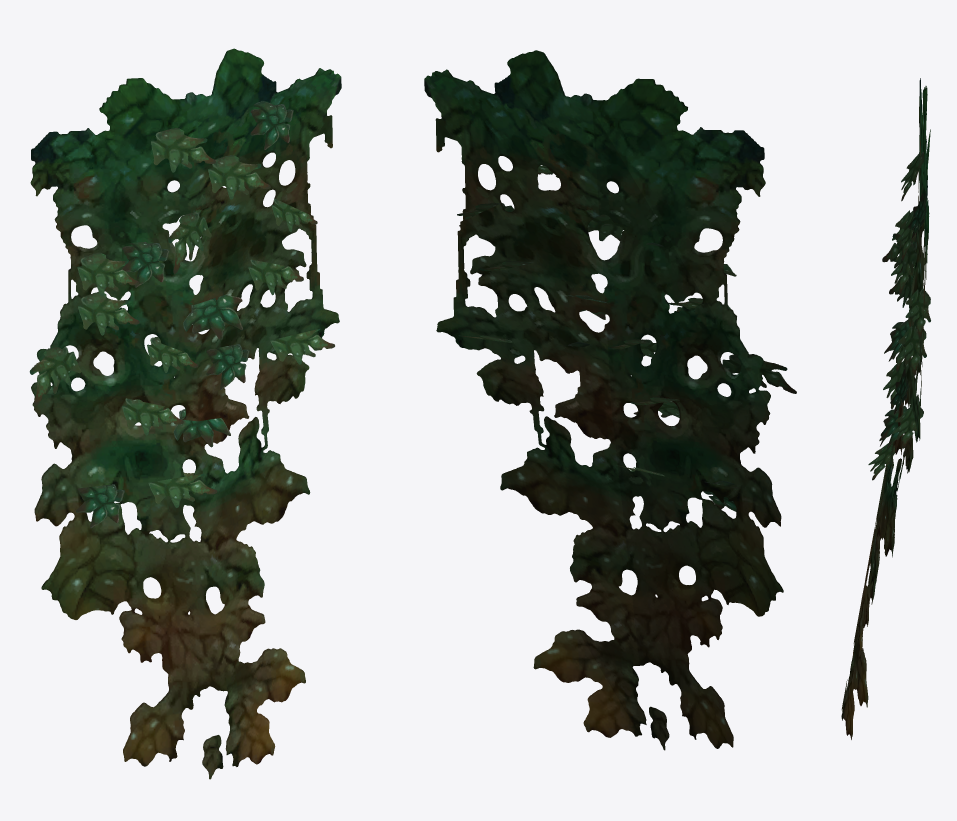
Rendered from stemple_tallvinewall_straight_01.fbx.
3 views of the same model, side by side, from view 1: azimuth 30°, elevation 25°; view 2: azimuth 150°, elevation 25°; view 3: azimuth 270°, elevation 25° (orthographic). The views are drawn at different scales.
Parts seen in each view (by area): view 1: obj1.108; view 2: obj1.108; view 3: obj1.108.
Part boxes in pixels (bbox=[...]): obj1.108: bbox=[29, 48, 341, 779]; obj1.108: bbox=[424, 50, 796, 750]; obj1.108: bbox=[841, 78, 930, 739].
Size of the model in its own units: 3.07 by 5.97 by 0.8751.
